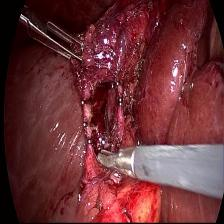Grasper: (30, 9, 88, 65)
Scissors: (95, 142, 139, 179)
